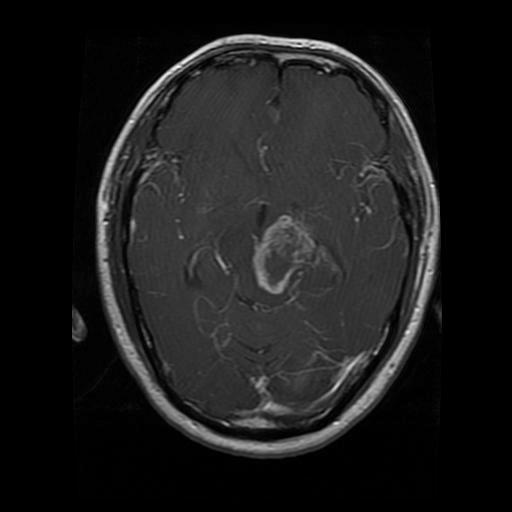Tumour-Glioma: (226, 219, 334, 305)
